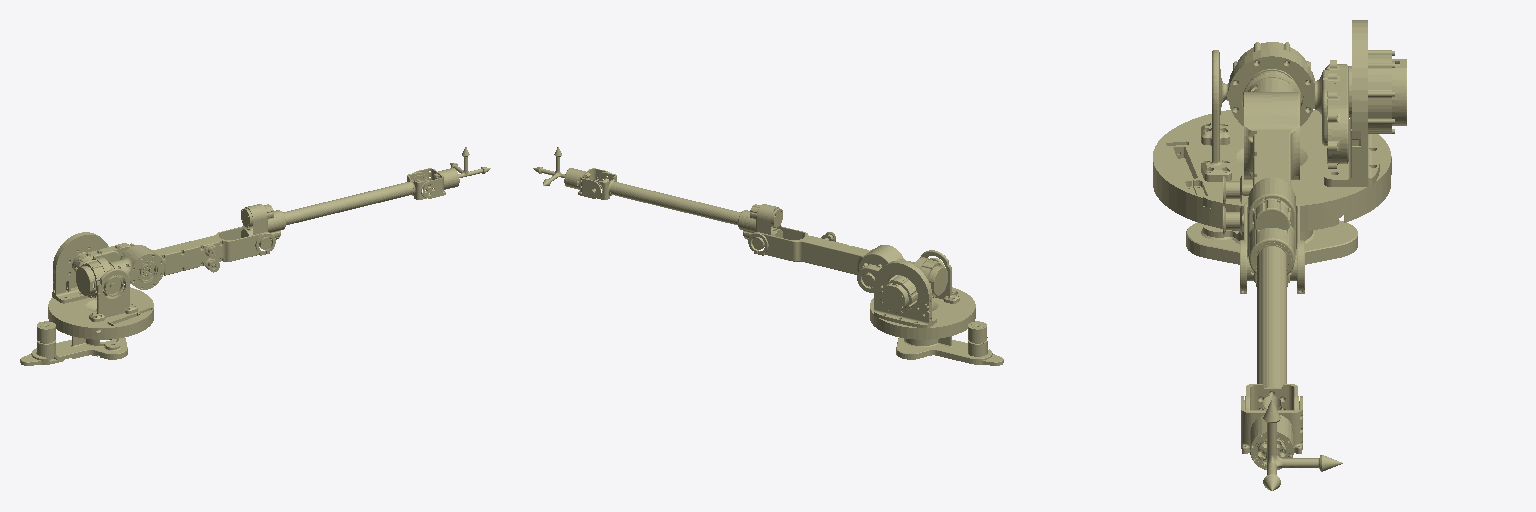
The robot description file, URDF, robot "ForteME_urdf":
<?xml version="1.0" ?>
<!-- Generated using onshape-to-robot -->
<!-- Onshape https://cad.onshape.com/documents/8825e1f4b4a669b255403429/w/e931ea6d417c9de7ecbcb543/e/262dd6380d13ba97275343b4 -->
<robot name="ForteME_urdf">
  <!-- base link -->
  <link name="base_link">
    <inertial>
      <origin xyz="-0.05148364 0.00103543 0.01857166" rpy="0 0 0"/>
      <mass value="1.18579607"/>
      <inertia ixx="0.00187175" ixy="-0.00001609" ixz="0.00027452" iyy="0.00641234" iyz="0.00001253" izz="0.00745017"/>
    </inertial>
    <visual>
      <origin xyz="0 0 0" rpy="0 0 0"/>
      <geometry>
        <mesh filename="package://meshes/base_link.stl"/>
      </geometry>
      <material name="torso_parts_material">
        <color rgba="0.723666 0.709829 0.56081 1"/>
      </material>
    </visual>
    <collision>
      <origin xyz="0 0 0" rpy="0 0 0"/>
      <geometry>
        <mesh filename="package://meshes/base_link.stl"/>
      </geometry>
    </collision>
  </link>

  <!-- Joint 0-->
  <joint name="shoulder_yaw" type="revolute">
    <origin xyz="0 0 0.05200000" rpy="0  0.00000000  0.00000000"/>
    <parent link="base_link"/>
    <child link="shoulder_yaw_link"/>
    <axis xyz="0 0 1"/>
    <limit effort="10" velocity="10" lower="-3.141592653589793" upper="3.141592653589793"/>
  </joint>

  <!-- base link -->
  <link name="shoulder_yaw_link">
    <inertial>
      <origin xyz="-0.0004308 0.01626773 0.05049504" rpy="0 0 0"/>
      <mass value="5.03336404"/>
      <inertia ixx="0.02987854" ixy="-8e-7" ixz="-0.00007993" iyy="0.02429356" iyz="-0.005194" izz="0.04001326"/>
    </inertial>
    <visual>
      <origin xyz="0 0 0" rpy="0 0 0"/>
      <geometry>
        <mesh filename="package://meshes/shoulder_yaw_link.stl"/>
      </geometry>
      <material name="torso_parts_material">
        <color rgba="0.723666 0.709829 0.56081 1"/>
      </material>
    </visual>
    <collision>
      <origin xyz="0 0 0" rpy="0 0 0"/>
      <geometry>
        <mesh filename="package://meshes/shoulder_yaw_link.stl"/>
      </geometry>
    </collision>
  </link>

  <!-- Joint 1-->
  <joint name="shoulder_pitch" type="revolute">
    <origin xyz="0 -0.06300000 0.12500000" rpy="0 0 0"/>
    <parent link="shoulder_yaw_link"/>
    <child link="shoulder_pitch_link"/>
    <axis xyz="0 1 0"/>
    <limit effort="10" velocity="10" lower="-3.141592653589793" upper="3.141592653589793"/>
  </joint>

  <!-- shoulder pitch link -->
  <link name="shoulder_pitch_link">
    <inertial>
      <origin xyz="0.02319418 0.09131645 0.00007827" rpy="0 0 0"/>
      <mass value="0.59865534"/>
      <inertia ixx="0.00134191" ixy="-0.00078762" ixz="0.00000262" iyy="0.00179957" iyz="0.00000131" izz="0.0025724"/>
    </inertial>
    <visual>
      <origin xyz="0 0 0" rpy="0 0 0"/>
      <geometry>
        <mesh filename="package://meshes/shoulder_pitch_link.stl"/>
      </geometry>
      <material name="torso_parts_material">
        <color rgba="0.723666 0.709829 0.56081 1"/>
      </material>
    </visual>
    <collision>
      <origin xyz="0 0 0" rpy="0 0 0"/>
      <geometry>
        <mesh filename="package://meshes/shoulder_pitch_link.stl"/>
      </geometry>
    </collision>
  </link>

  <!-- Joint 2-->
  <joint name="shoulder_roll" type="revolute">
    <origin xyz="0.00050000 0.06300000 0" rpy="0 0 0"/>
    <parent link="shoulder_pitch_link"/>
    <child link="upper_arm_link"/>
    <axis xyz="1 0 0"/>
    <limit effort="10" velocity="10" lower="-3.141592653589793" upper="3.141592653589793"/>
  </joint>

  <!-- upper arm link -->
  <link name="upper_arm_link">
    <inertial>
      <origin xyz="0.16452835 -0.00229075 0.00000789" rpy="0 0 0"/>
      <mass value="0.99609524"/>
      <inertia ixx="0.00084045" ixy="0.0000959" ixz="-4.2e-7" iyy="0.01558267" iyz="9e-8" izz="0.01554689"/>
    </inertial>
    <visual>
      <origin xyz="0 0 0" rpy="0 0 0"/>
      <geometry>
        <mesh filename="package://meshes/upper_arm_link.stl"/>
      </geometry>
      <material name="torso_parts_material">
        <color rgba="0.723666 0.709829 0.56081 1"/>
      </material>
    </visual>
    <collision>
      <origin xyz="0 0 0" rpy="0 0 0"/>
      <geometry>
        <mesh filename="package://meshes/upper_arm_link.stl"/>
      </geometry>
    </collision>
  </link>


  <!-- Joint 3-->
  <joint name="elbow_pitch" type="revolute">
    <origin xyz="0.42950000 -0.03400000 0" rpy="0 0 0"/>
    <parent link="upper_arm_link"/>
    <child link="elbow_link"/>
    <axis xyz="0 1 0"/>
    <limit effort="10" velocity="10" lower="-3.141592653589793" upper="3.141592653589793"/>
  </joint>

  <!-- elbow link -->
  <link name="elbow_link">
    <inertial>
      <origin xyz="0.00516413 0.03399824 0.02949132" rpy="0 0 0"/>
      <mass value="0.38627496"/>
      <inertia ixx="0.00045856" ixy="-3.281e-8" ixz="0.00000282" iyy="0.00060413" iyz="-2.546e-8" izz="0.00037542"/>
    </inertial>
    <visual>
      <origin xyz="0 0 0" rpy="0 0 0"/>
      <geometry>
        <mesh filename="package://meshes/elbow_link.stl"/>
      </geometry>
      <material name="torso_parts_material">
        <color rgba="0.723666 0.709829 0.56081 1"/>
      </material>
    </visual>
    <collision>
      <origin xyz="0 0 0" rpy="0 0 0"/>
      <geometry>
        <mesh filename="package://meshes/elbow_link.stl"/>
      </geometry>
    </collision>
  </link>

    <!-- Joint 4-->
  <joint name="lower_arm_roll" type="revolute">
    <origin xyz="0.06050000 0.03400000 0.03500000" rpy="0 0 0"/>
    <parent link="elbow_link"/>
    <child link="lower_arm_link"/>
    <axis xyz="1 0 0"/>
    <limit effort="10" velocity="10" lower="-3.141592653589793" upper="3.141592653589793"/>
  </joint>

  <!-- elbow link -->
  <link name="lower_arm_link">
    <inertial>
      <origin xyz="0.18837256 -0.00000274 -0.00000986" rpy="0 0 0"/>
      <mass value="0.53088093"/>
      <inertia ixx="0.00011648" ixy="2.452e-7" ixz="0.00000116" iyy="0.00708678" iyz="-2.157e-8" izz="0.00709904"/>
    </inertial>
    <visual>
      <origin xyz="0 0 0" rpy="0 0 0"/>
      <geometry>
        <mesh filename="package://meshes/lower_arm_link.stl"/>
      </geometry>
      <material name="torso_parts_material">
        <color rgba="0.723666 0.709829 0.56081 1"/>
      </material>
    </visual>
    <collision>
      <origin xyz="0 0 0" rpy="0 0 0"/>
      <geometry>
        <mesh filename="package://meshes/lower_arm_link.stl"/>
      </geometry>
    </collision>
  </link>


  <!-- Joint 4-->
  <joint name="wrist_pitch" type="revolute">
    <origin xyz="0.38650000 -0.02850000 0" rpy="0 0 0"/>
    <parent link="lower_arm_link"/>
    <child link="wrist_link"/>
    <axis xyz="0 1 0"/>
    <limit effort="10" velocity="10" lower="-3.141592653589793" upper="3.141592653589793"/>
  </joint>

  <!-- elbow link -->
  <link name="wrist_link">
    <inertial>
      <origin xyz="0.04115423 0.02929509 -0.00014264" rpy="0 0 0"/>
      <mass value="0.16999931"/>
      <inertia ixx="0.0000931" ixy="0.00000615" ixz="-4.266e-9" iyy="0.00018454" iyz="-2.207e-8" izz="0.00022648"/>
    </inertial>
    <visual>
      <origin xyz="0 0 0" rpy="0 0 0"/>
      <geometry>
        <mesh filename="package://meshes/wrist_link.stl"/>
      </geometry>
      <material name="torso_parts_material">
        <color rgba="0.723666 0.709829 0.56081 1"/>
      </material>
    </visual>
    <collision>
      <origin xyz="0 0 0" rpy="0 0 0"/>
      <geometry>
        <mesh filename="package://meshes/wrist_link.stl"/>
      </geometry>
    </collision>
  </link>

 <!-- Joint 4-->
  <joint name="wrist_roll" type="revolute">
    <origin xyz="0.08700000 0.02850000 0" rpy="0 0 0"/>
    <parent link="wrist_link"/>
    <child link="end_effector_link"/>
    <axis xyz="1 0 0"/>
    <limit effort="10" velocity="10" lower="-3.141592653589793" upper="3.141592653589793"/>
  </joint>

  <!-- elbow link -->
  <link name="end_effector_link">
    <inertial>
      <origin xyz="0.03484477 0.01040816 0.01040796" rpy="0 0 0"/>
      <mass value="0.06318172"/>
      <inertia ixx="0.00004989" ixy="0.00000319" ixz="0.00000319" iyy="0.00005535" iyz="0.00000684" izz="0.00005535"/>
    </inertial>
    <visual>
      <origin xyz="0 0 0" rpy="0 0 0"/>
      <geometry>
        <mesh filename="package://meshes/end_effector_link.stl"/>
      </geometry>
      <material name="torso_parts_material">
        <color rgba="0.723666 0.709829 0.56081 1"/>
      </material>
    </visual>
    <collision>
      <origin xyz="0 0 0" rpy="0 0 0"/>
      <geometry>
        <mesh filename="package://meshes/end_effector_link.stl"/>
      </geometry>
    </collision>
  </link>

</robot>

--- Render facts (derived) ---
The picture shows the robot from 3 angles, left to right: view 1: azimuth 30°, elevation 25°; view 2: azimuth 150°, elevation 25°; view 3: azimuth 270°, elevation 25°; orthographic projection.
Robot: ForteME_urdf — 8 links, 7 joints (7 revolute); root link base_link; default pose: all joints at 0.
Visible links, largest first — view 1: shoulder_yaw_link, upper_arm_link, elbow_link, base_link, shoulder_pitch_link, wrist_link, lower_arm_link; view 2: shoulder_yaw_link, upper_arm_link, elbow_link, base_link, shoulder_pitch_link, wrist_link, lower_arm_link; view 3: shoulder_yaw_link, upper_arm_link, elbow_link, shoulder_pitch_link, base_link, wrist_link, end_effector_link, lower_arm_link.
Boxes of the visible links, x1,y1,x2,y2 form: shoulder_yaw_link: (48,232,153,339); upper_arm_link: (109,226,275,289); elbow_link: (241,172,430,249); base_link: (20,321,127,365); shoulder_pitch_link: (73,243,134,297); wrist_link: (413,168,459,198); lower_arm_link: (283,174,413,224); shoulder_yaw_link: (870,250,975,339); upper_arm_link: (748,226,914,274); elbow_link: (593,172,782,249); base_link: (896,321,1003,365); shoulder_pitch_link: (857,257,947,297); wrist_link: (564,168,610,198); lower_arm_link: (610,182,740,224); shoulder_yaw_link: (1153,20,1406,231); upper_arm_link: (1223,71,1304,293); elbow_link: (1245,177,1298,411); shoulder_pitch_link: (1220,42,1351,168); base_link: (1186,220,1357,264); wrist_link: (1241,396,1302,469); end_effector_link: (1258,399,1342,490); lower_arm_link: (1257,246,1293,409).
Size in the robot's own frame: 1.28 by 0.2664 by 0.287 metres.
8 mesh visuals loaded from 8 distinct referenced files (8 binary STL).
